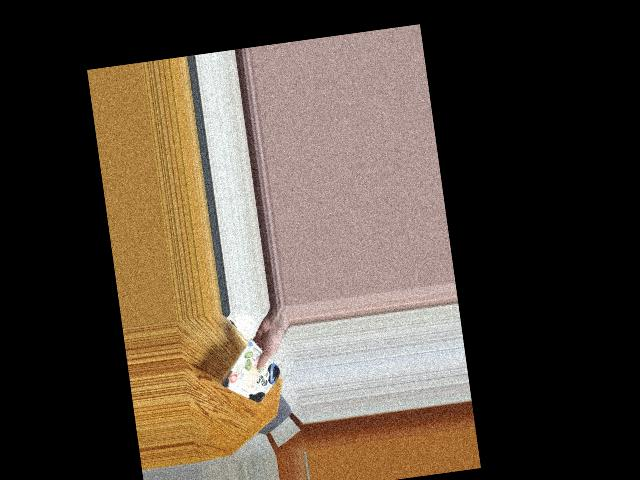cheese: (225, 343, 275, 404)
